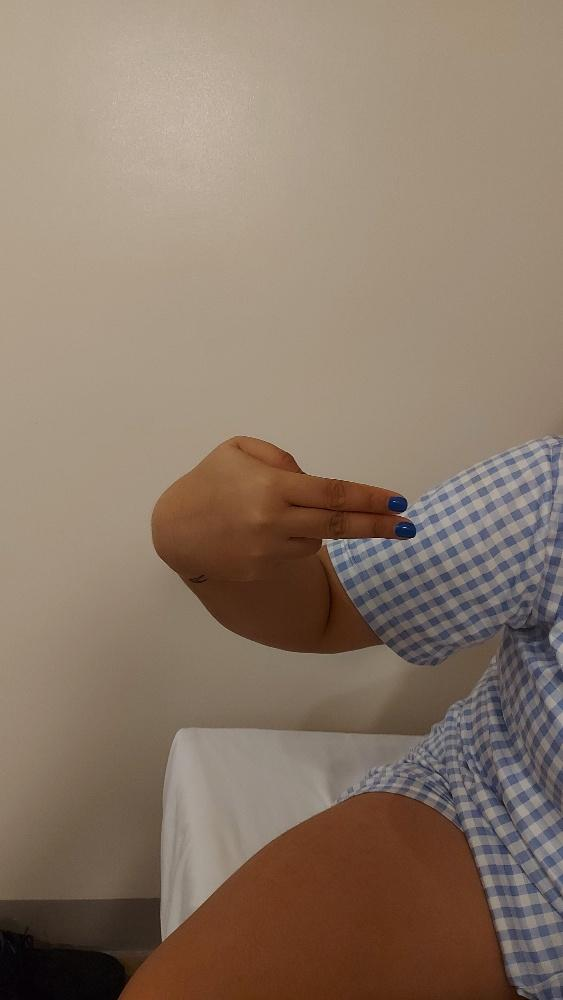h: (149, 431, 418, 585)
